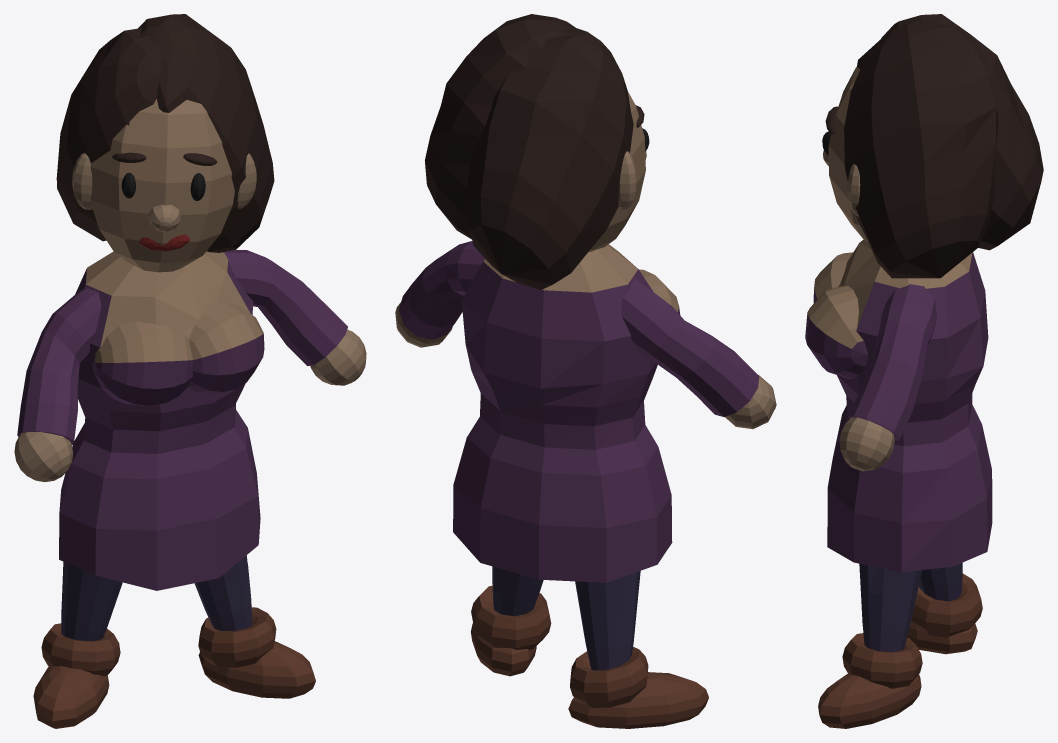
The model's file is Character06.fbx.
3 views of the same model, side by side, from view 1: azimuth 30°, elevation 25°; view 2: azimuth 150°, elevation 25°; view 3: azimuth 270°, elevation 25° (orthographic). The views are drawn at different scales.
Parts seen in each view (by area): view 1: Villager04; view 2: Villager04; view 3: Villager04.
Boxes of the visible parts, x1,y1,x2,y2 form: Villager04: [14, 14, 366, 728]; Villager04: [395, 14, 776, 728]; Villager04: [805, 14, 1043, 728].
Bounding box in the file's own units: 0.2606 × 0.4644 × 0.1519.
